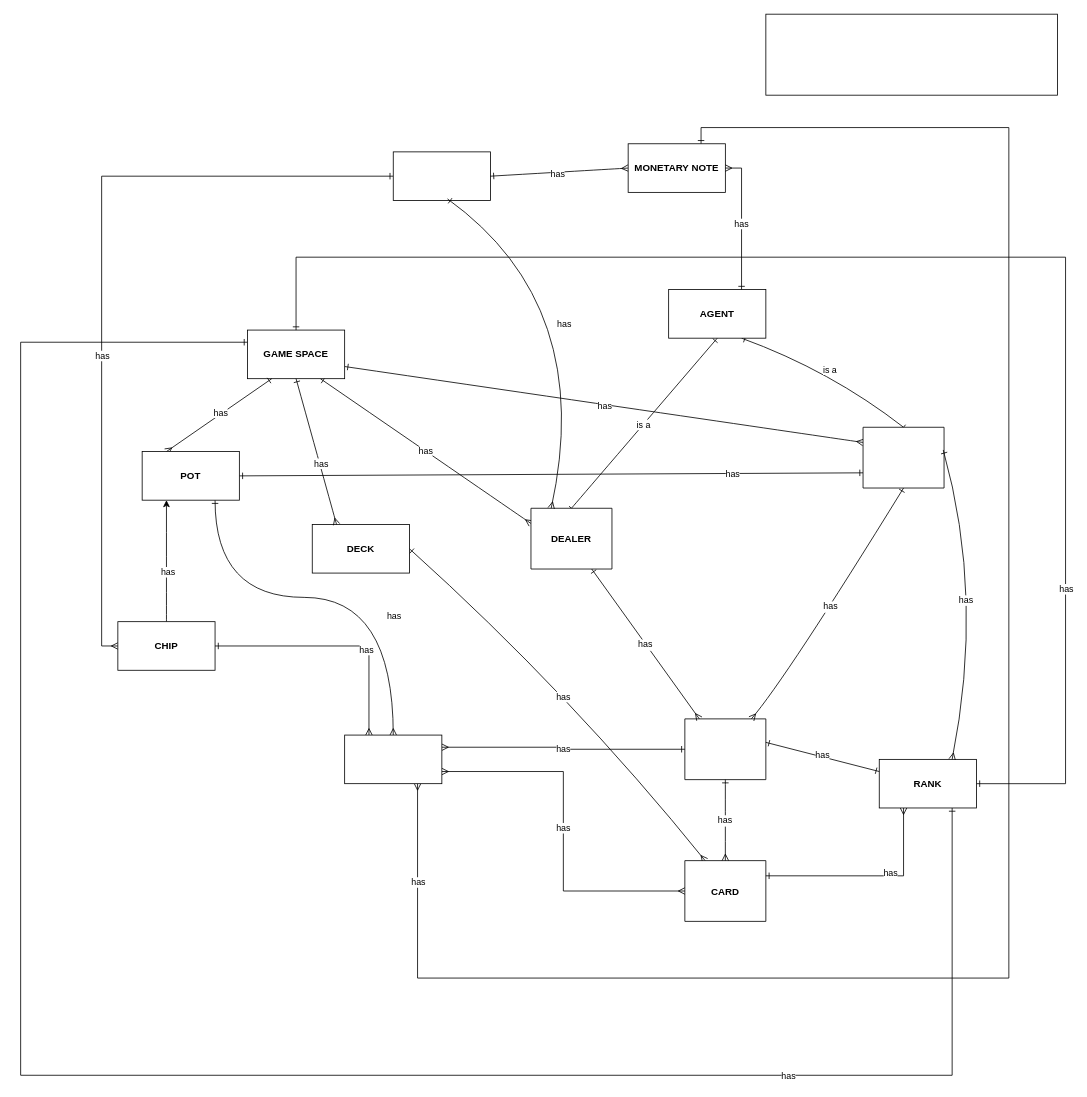
This 1087x1097 diagram has some shape labels left out. Here are the shapes that lost their labels. From the top down, the box of each, then its label:
(765, 13, 1057, 95): Questions: can you get chips from table or just cage?
(392, 151, 490, 200): CAGE
(862, 426, 944, 488): PLAYER
(344, 734, 442, 784): VALUE
(684, 718, 766, 780): HAND
